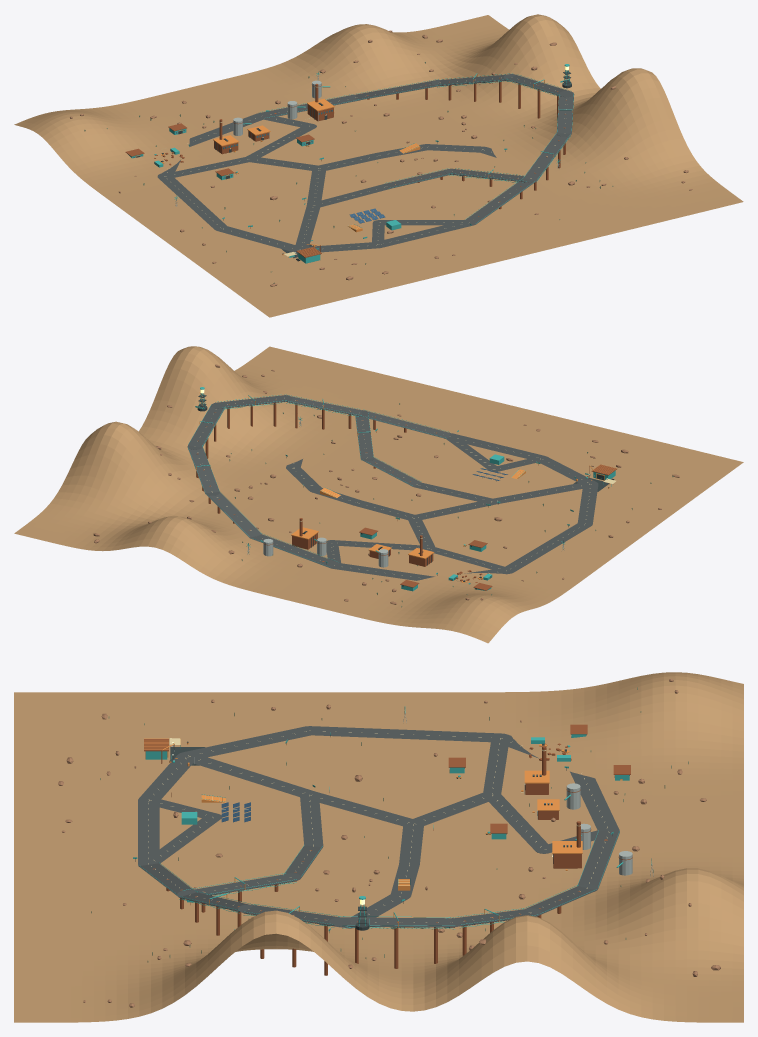
Rendered from oerken.glb.
The picture shows the model from 3 angles, top to bottom: view 1: azimuth 30°, elevation 25°; view 2: azimuth 150°, elevation 25°; view 3: azimuth 270°, elevation 25°; orthographic projection. The views are drawn at different scales.
Parts seen in each view (by area): view 1: Verden_Gyldent sand, Verden_Slidt asfalt, Verden_Rust, Verden_Turkis emalje, Verden_Terracotta klippe, Verden_Orange emalje, Verden_Mørkt jern, Verden_Børstet stål; view 2: Verden_Gyldent sand, Verden_Slidt asfalt, Verden_Rust, Verden_Turkis emalje, Verden_Terracotta klippe, Verden_Orange emalje, Verden_Børstet stål, Verden_Mørkt jern; view 3: Verden_Gyldent sand, Verden_Slidt asfalt, Verden_Rust, Verden_Turkis emalje, Verden_Orange emalje, Verden_Terracotta klippe, Verden_Børstet stål, Verden_Mørkt jern, Verden_Creme markering.
Part boxes in pixels (<box>): Verden_Gyldent sand: <box>14,14,743,317</box>; Verden_Slidt asfalt: <box>157,74,574,253</box>; Verden_Rust: <box>125,77,566,257</box>; Verden_Turkis emalje: <box>128,64,573,263</box>; Verden_Terracotta klippe: <box>70,30,692,286</box>; Verden_Orange emalje: <box>135,71,572,257</box>; Verden_Mørkt jern: <box>135,71,571,258</box>; Verden_Børstet stål: <box>175,75,559,257</box>; Verden_Gyldent sand: <box>14,346,743,643</box>; Verden_Slidt asfalt: <box>187,395,598,580</box>; Verden_Rust: <box>196,399,616,590</box>; Verden_Turkis emalje: <box>188,387,615,591</box>; Verden_Terracotta klippe: <box>93,364,679,604</box>; Verden_Orange emalje: <box>196,392,616,582</box>; Verden_Børstet stål: <box>247,420,594,567</box>; Verden_Mørkt jern: <box>197,394,609,589</box>; Verden_Gyldent sand: <box>14,672,743,1022</box>; Verden_Slidt asfalt: <box>138,726,619,928</box>; Verden_Rust: <box>144,724,632,975</box>; Verden_Turkis emalje: <box>133,732,653,930</box>; Verden_Orange emalje: <box>144,738,622,926</box>; Verden_Terracotta klippe: <box>58,679,720,1007</box>; Verden_Børstet stål: <box>171,712,653,876</box>; Verden_Mørkt jern: <box>135,734,629,932</box>; Verden_Creme markering: <box>148,730,622,922</box>.
Size of the model in its own units: 900 by 128 by 840.
